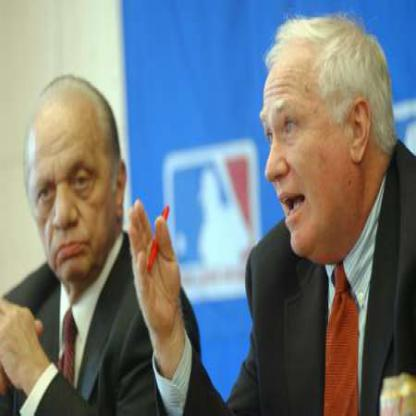face: (256, 32, 353, 262), (23, 81, 118, 286)
